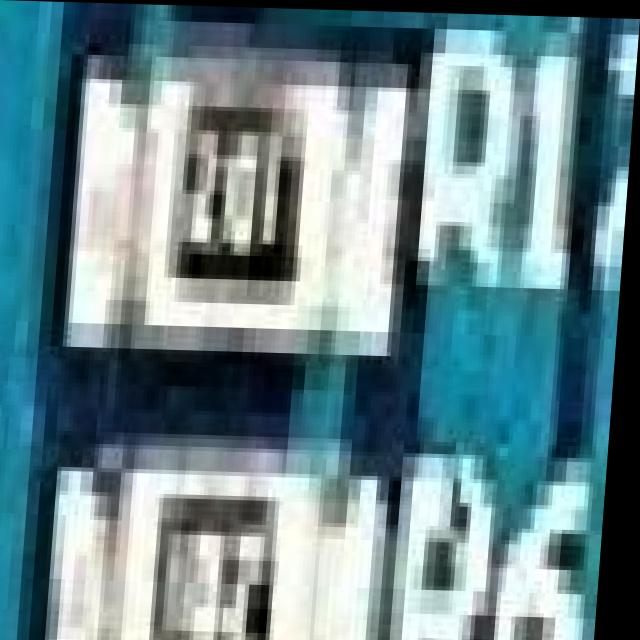resistor: (103, 43, 378, 361), (75, 447, 362, 640)
